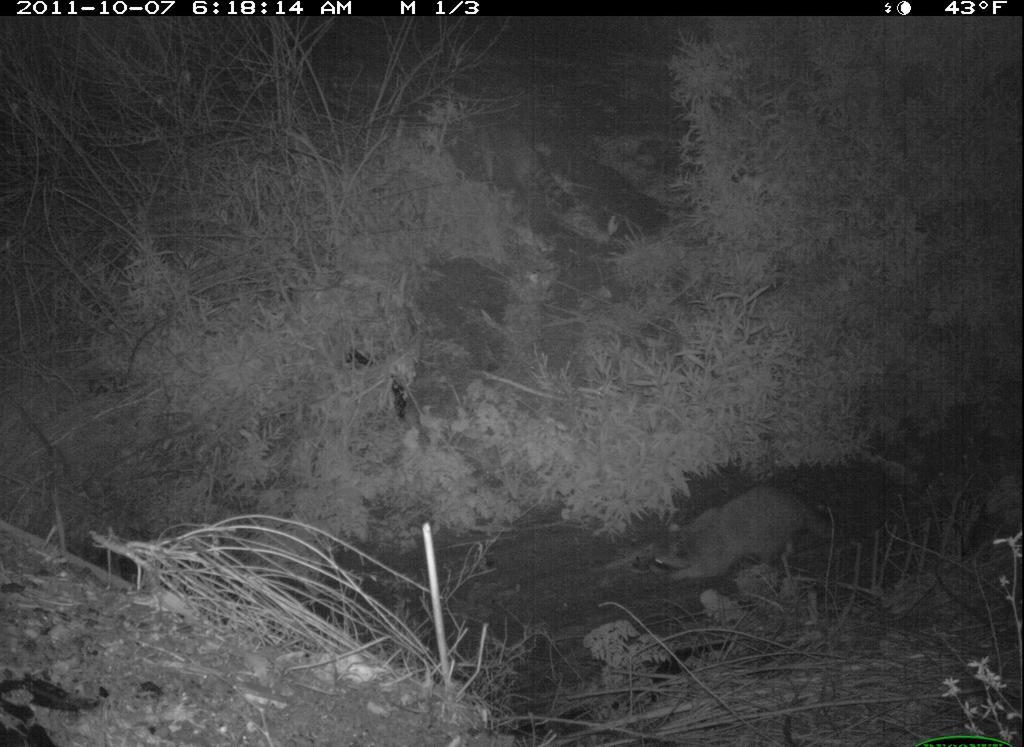raccoon: (648, 477, 848, 587)
